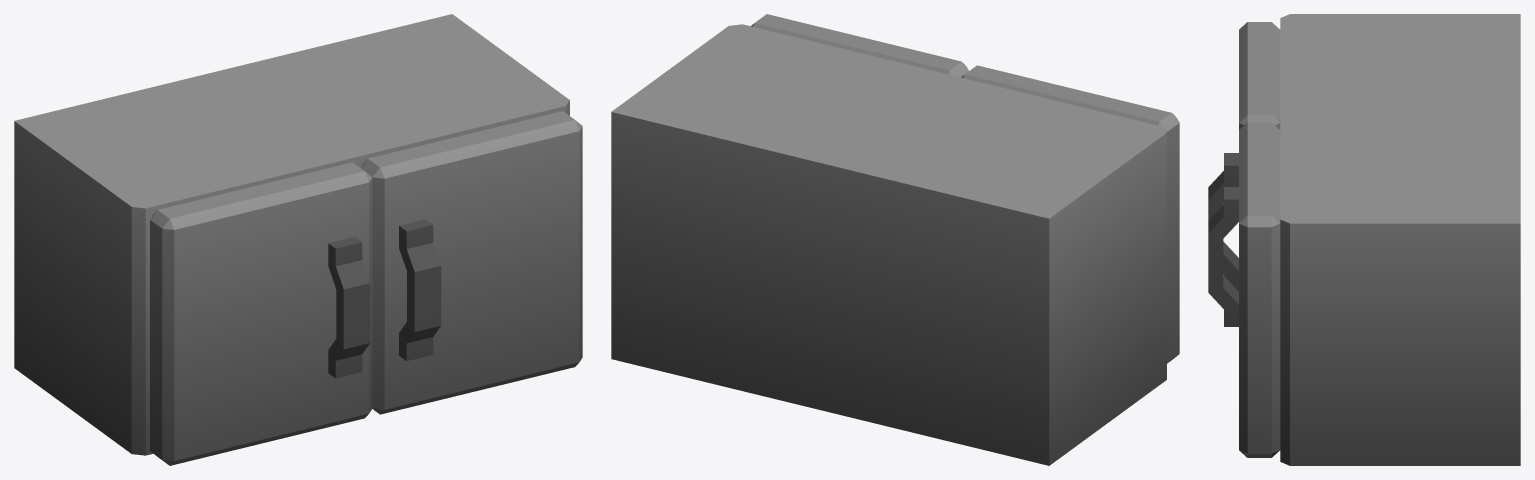
Rendered from Cabinet_01_S.fbx.
3 views of the same model, side by side, from view 1: azimuth 30°, elevation 25°; view 2: azimuth 150°, elevation 25°; view 3: azimuth 270°, elevation 25° (orthographic).
Parts seen in each view (by area): view 1: Cabinet_01_S, Cabinet_01_S_Door_R, Cabinet_01_S_Door_L; view 2: Cabinet_01_S, Cabinet_01_S_Door_R, Cabinet_01_S_Door_L; view 3: Cabinet_01_S, Cabinet_01_S_Door_L, Cabinet_01_S_Door_R.
Part boxes in pixels (<box>): Cabinet_01_S: <box>14,14,569,455</box>; Cabinet_01_S_Door_R: <box>150,162,372,465</box>; Cabinet_01_S_Door_L: <box>361,111,582,414</box>; Cabinet_01_S: <box>611,24,1166,465</box>; Cabinet_01_S_Door_R: <box>961,65,1179,363</box>; Cabinet_01_S_Door_L: <box>751,14,968,77</box>; Cabinet_01_S: <box>1280,14,1520,465</box>; Cabinet_01_S_Door_L: <box>1208,122,1280,457</box>; Cabinet_01_S_Door_R: <box>1208,22,1280,291</box>.
Bounding box in the file's own units: 100 × 53.91 × 62.96.
